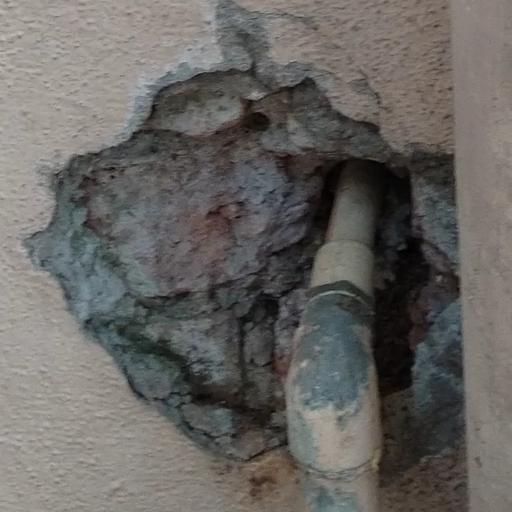spalling: (16, 48, 510, 469)
